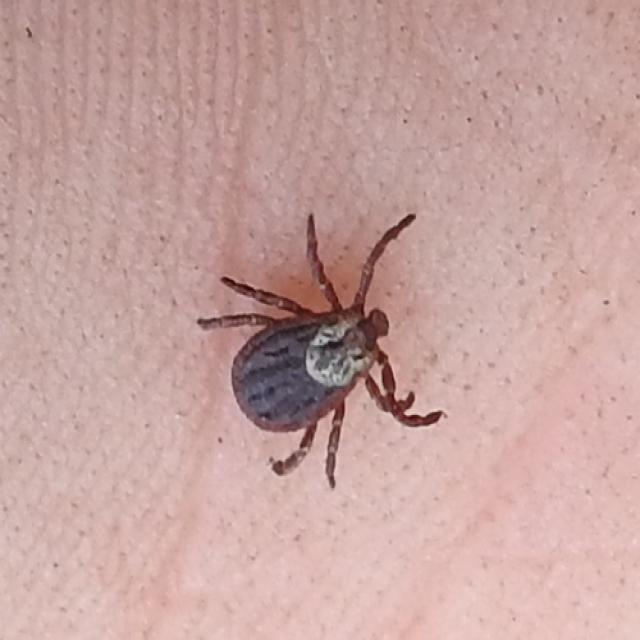Dermacentor Reticulatus-F: (197, 214, 442, 488)
